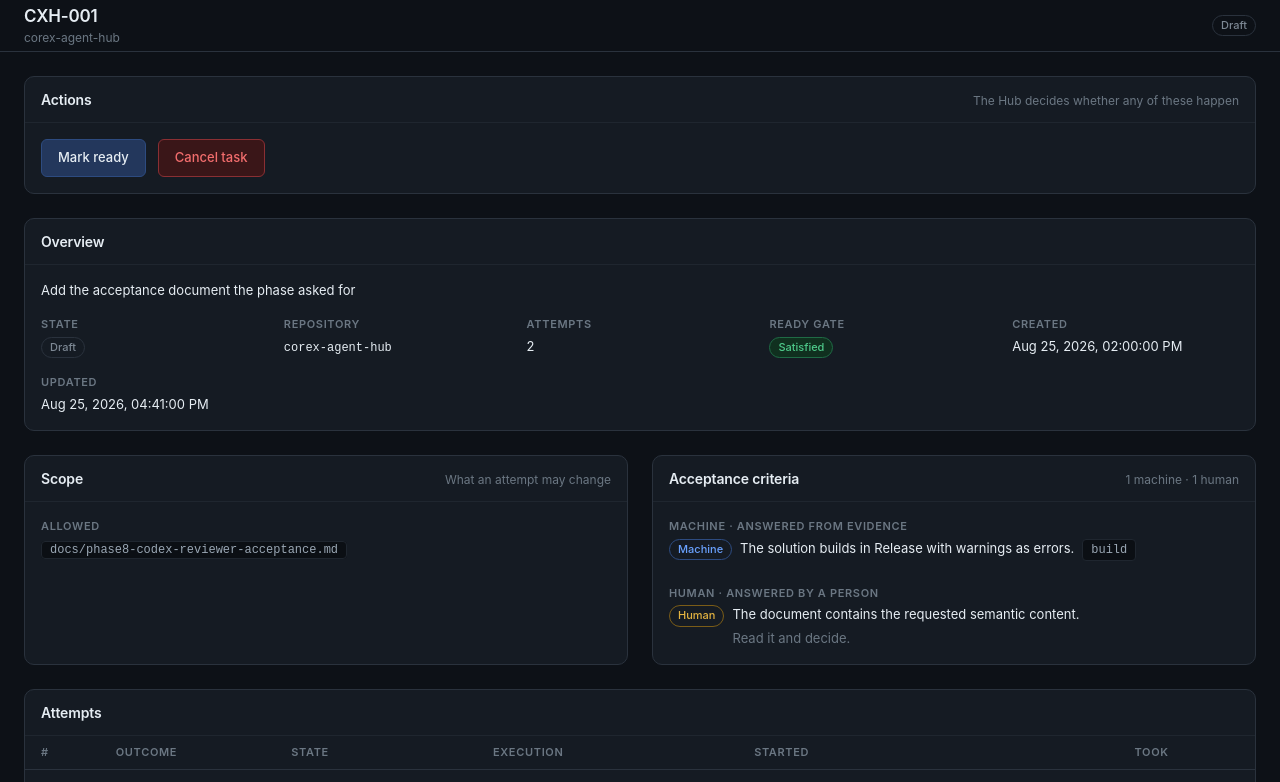
Test: Task actions › says so when the gate holds a draft back, without deciding that itself
This screenshot has width=1280, height=782.
Click the button "Mark ready": (93, 158) 41,139 -> 146,176
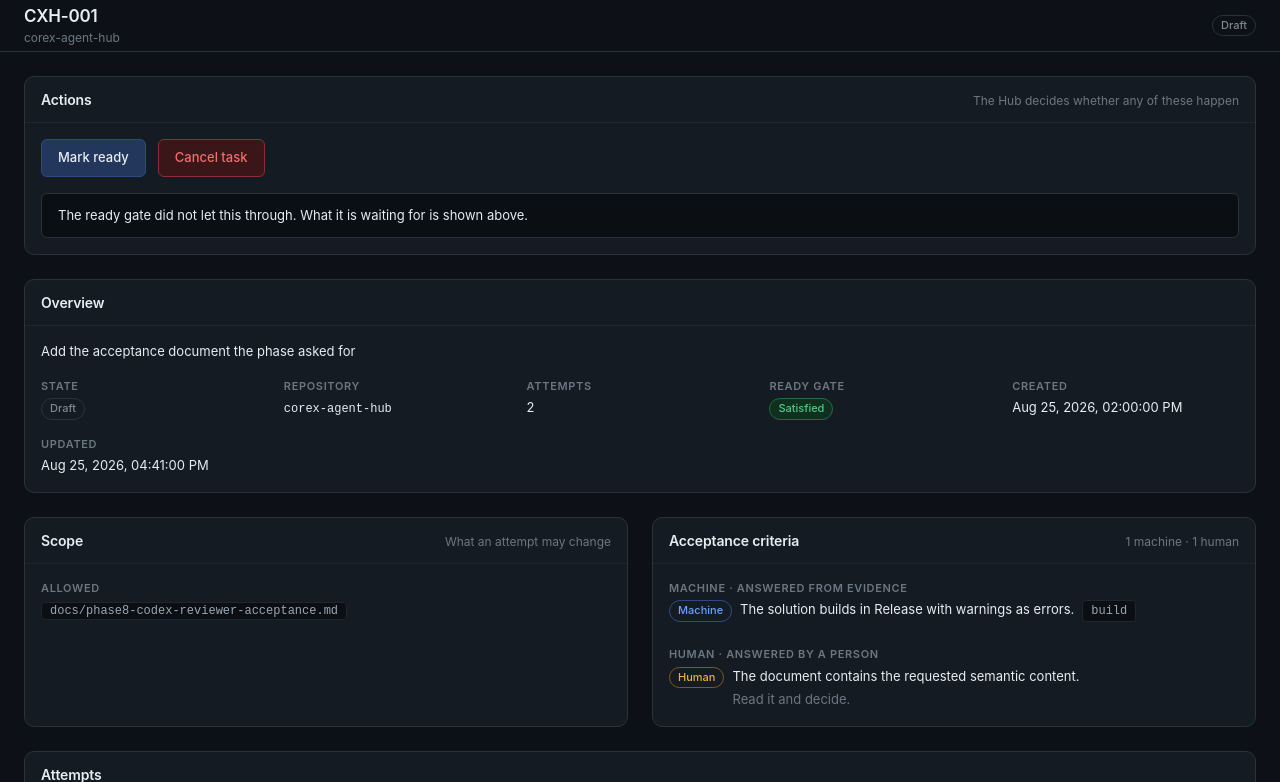
Expected: the text "ready gate did not let this through" is shown, 58,206 -> 528,222
